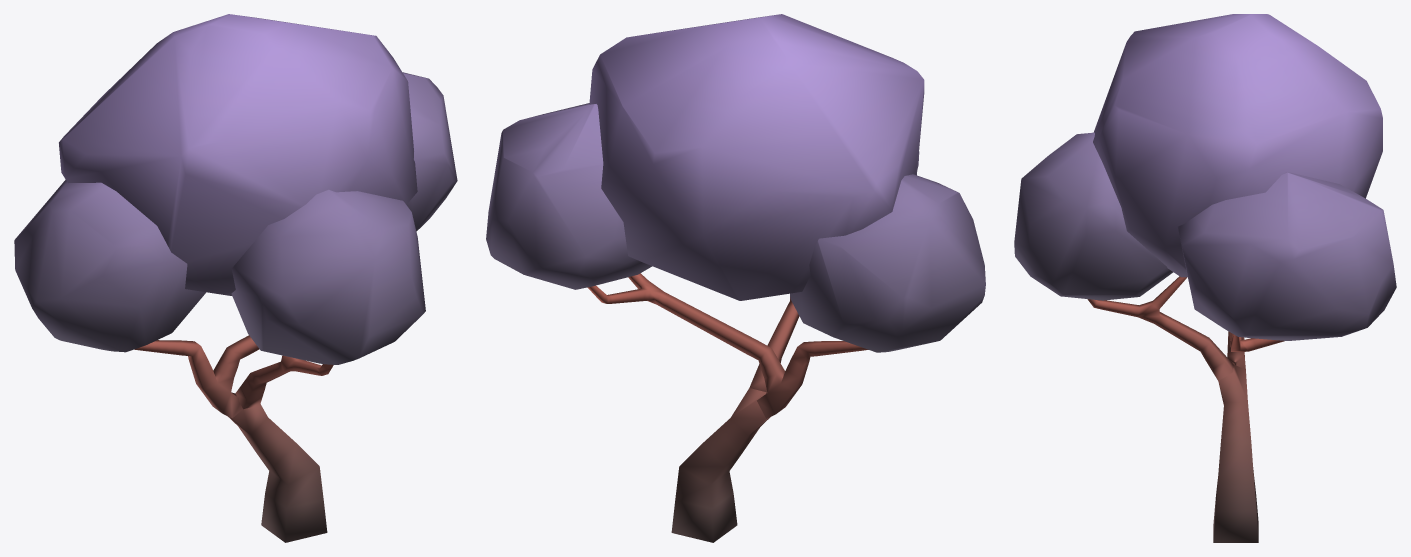
The picture shows the model from 3 angles, left to right: view 1: azimuth 30°, elevation 25°; view 2: azimuth 150°, elevation 25°; view 3: azimuth 270°, elevation 25°; orthographic projection. The views are drawn at different scales.
Parts seen in each view (by area): view 1: Vert.025; view 2: Vert.025; view 3: Vert.025.
Part boxes in pixels (x1,y1,x2,y2): Vert.025: [14, 14, 457, 542]; Vert.025: [486, 14, 985, 542]; Vert.025: [1014, 14, 1396, 542].
Bounding box in the file's own units: 4.33 × 4.82 × 3.45.
Materials: 1 (1 with a texture image).
